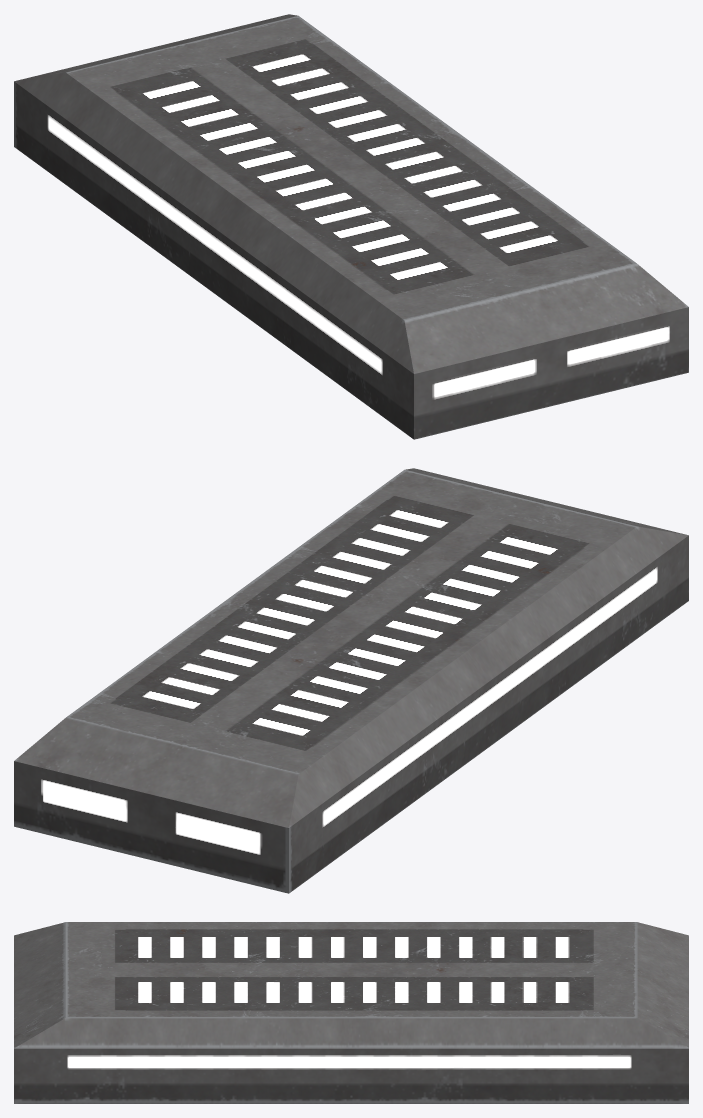
File: side_box_l_1.fbx
3 views of the same model, one above another, from view 1: azimuth 30°, elevation 25°; view 2: azimuth 150°, elevation 25°; view 3: azimuth 270°, elevation 25° (orthographic). The views are drawn at different scales.
Visible parts, largest first — view 1: side_box_l_1; view 2: side_box_l_1; view 3: side_box_l_1.
Boxes of the visible parts, bbox=[...] form: side_box_l_1: bbox=[14, 14, 688, 439]; side_box_l_1: bbox=[14, 468, 688, 893]; side_box_l_1: bbox=[14, 922, 688, 1103].
Bounding box in the file's own units: 5.86 × 1.87 × 14.78.
